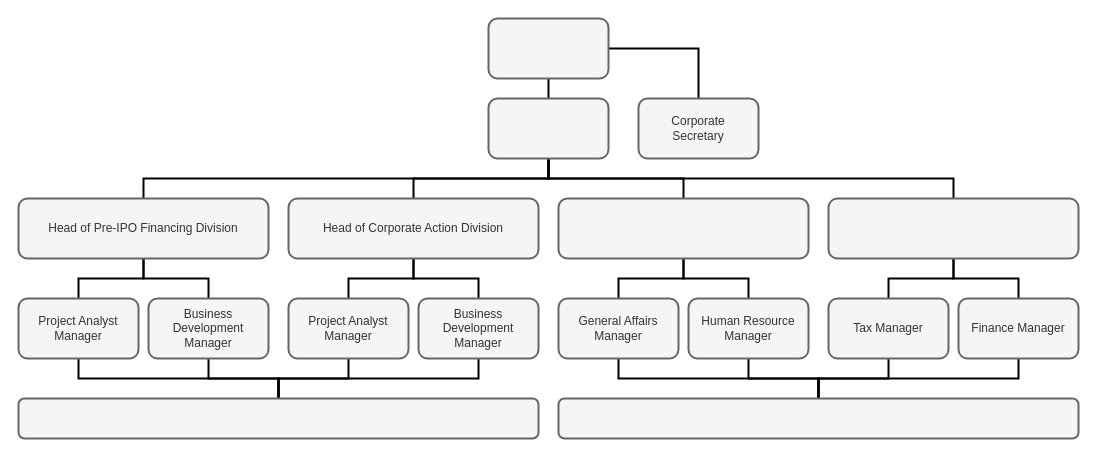
Some shapes in this 1096 by 456 pixel diagram are drawn without their labels. The shapes that lost their labels are listed below. From the top down, each one's box as (x1, y1, x2, y2) in pixels, then its label:
(487, 17, 609, 79): CEO
(487, 97, 609, 159): Managing Director
(557, 197, 809, 259): Head of General Affairs Division
(827, 197, 1079, 259): Head of Finance Division
(17, 397, 539, 439): Project Support Staff
(557, 397, 1079, 439): Staff
